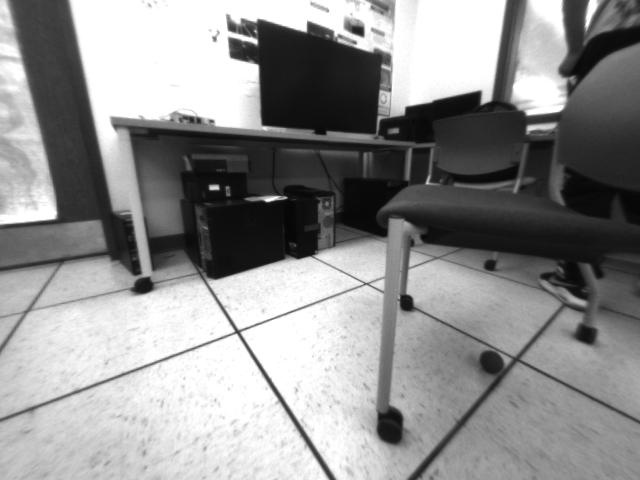dogtoy: (468, 338, 517, 381)
